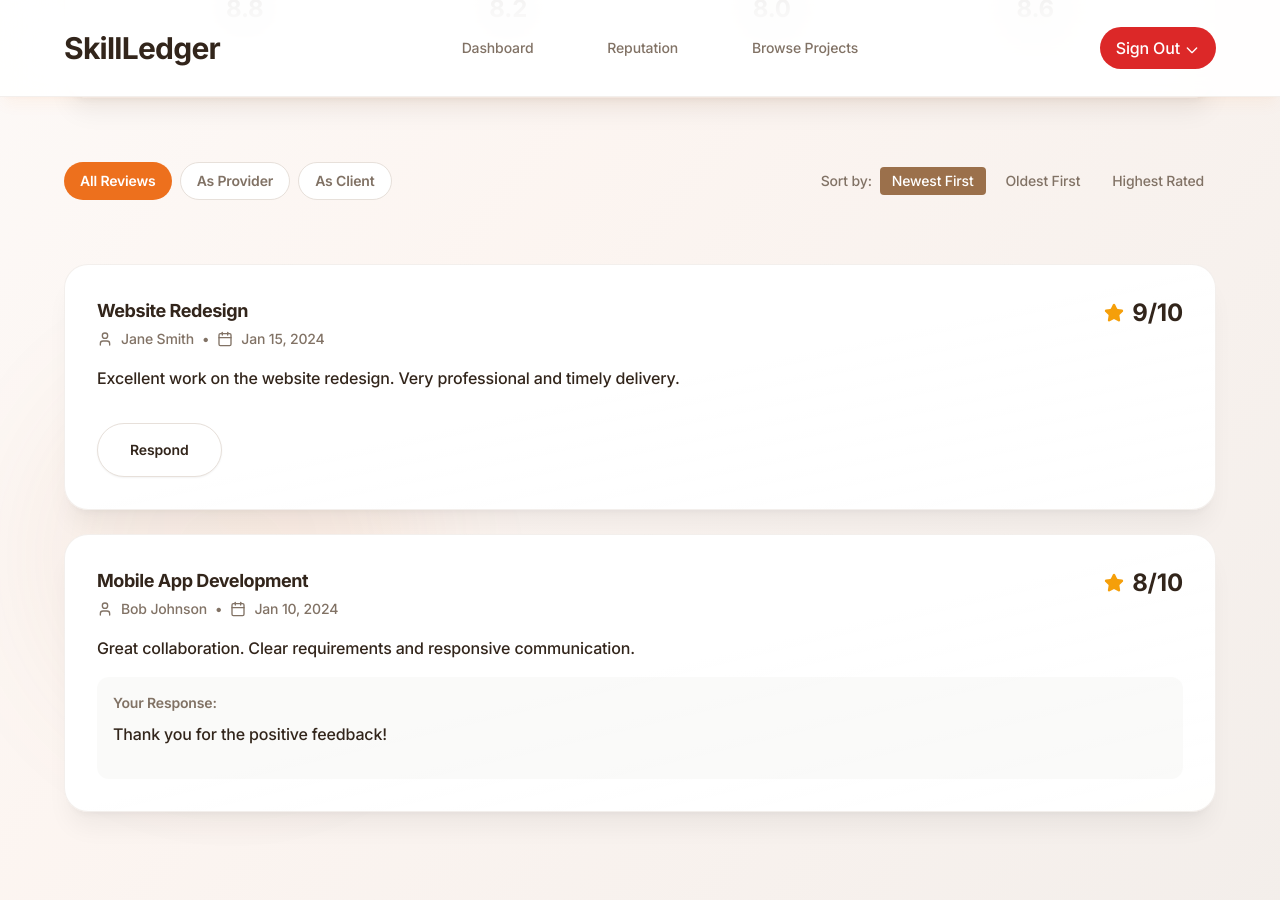
Test: ReviewsPage Integration Tests › Review Response › opens response modal on click
This screenshot has width=1280, height=900.
(page scrolled)
Click the button "Respond" at (159, 450), box [97,423,222,477]
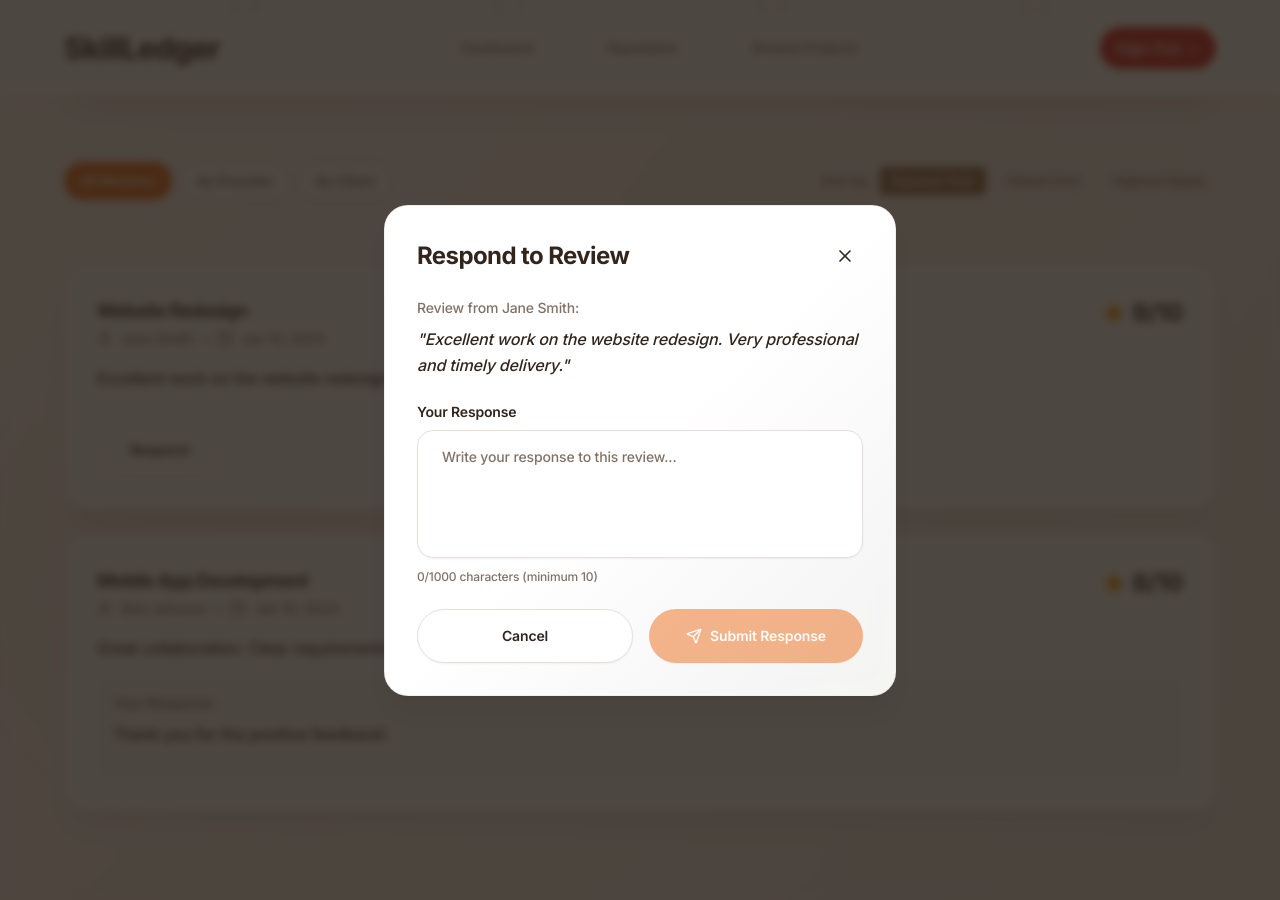
Expected: the heading "Respond to Review" is shown, [417,240,629,272]
Expected: the text box with placeholder "Write your response to this review..." is shown, [417,430,863,558]
